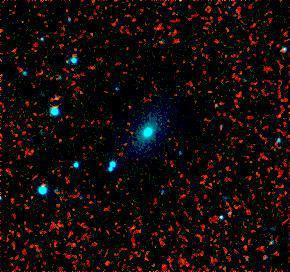star: (27, 26, 57, 56)
